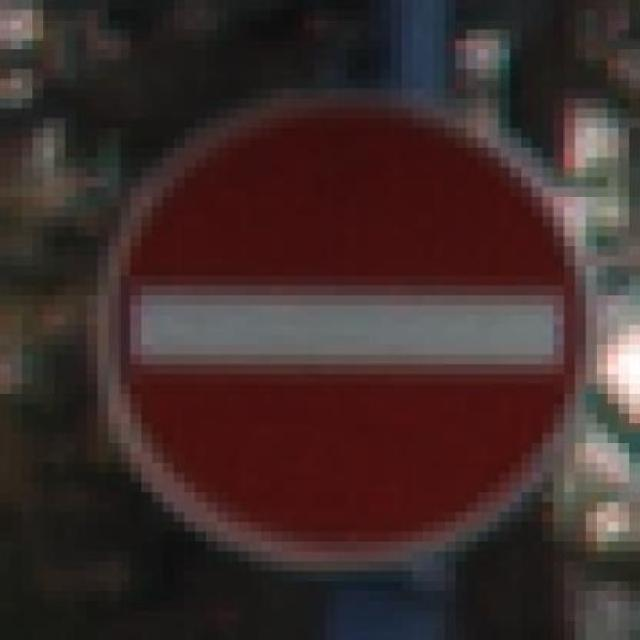No Entry: (54, 69, 618, 572)
